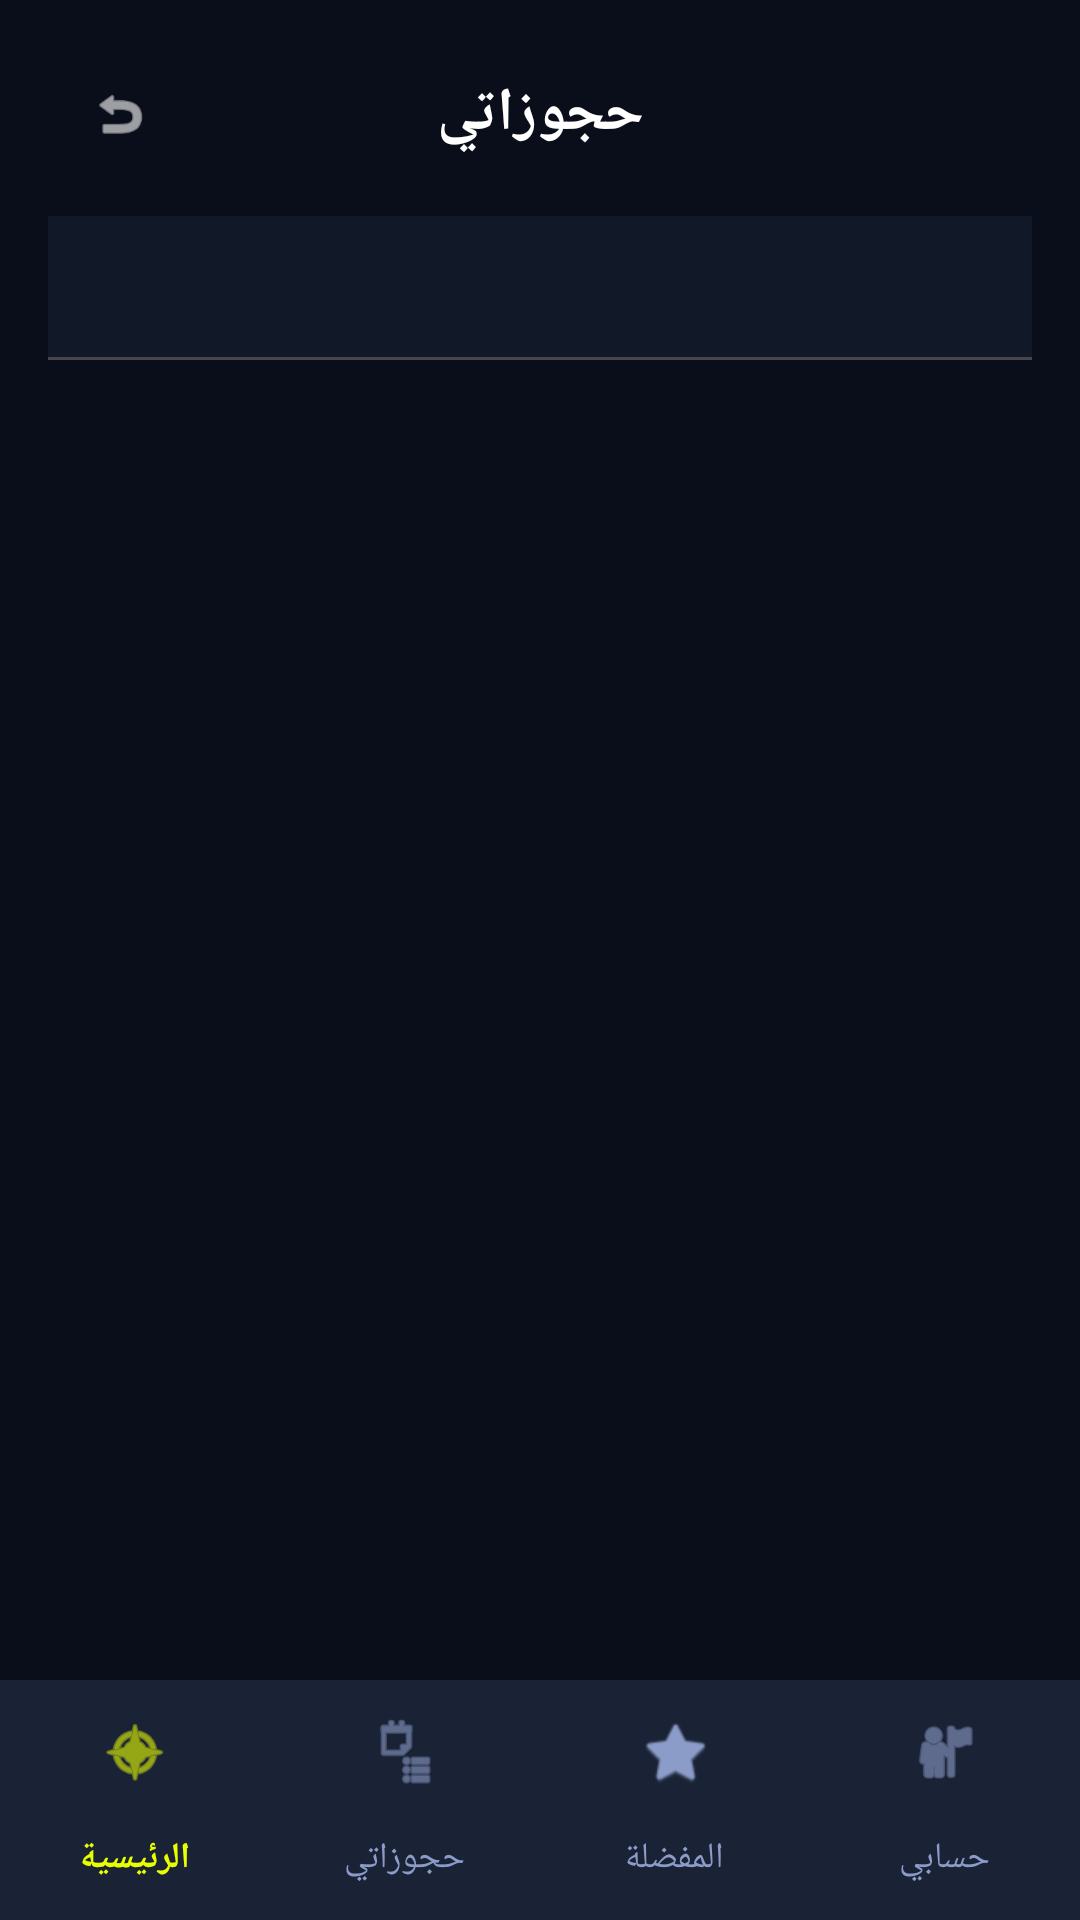

Icons on this 1080x1920 Android screen, each with the point to tap as point (x, y):
revert: point (121, 114)
